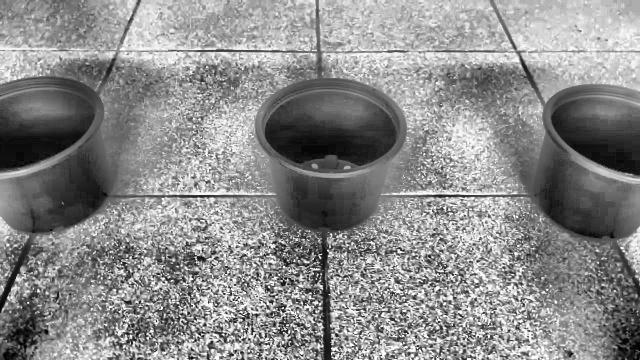pot: (255, 79, 408, 230), (0, 76, 112, 234), (532, 84, 640, 240)
